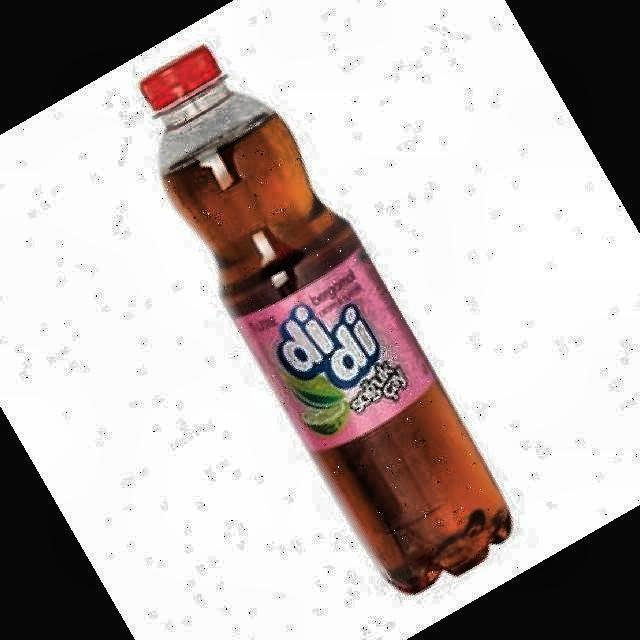plastic: (141, 46, 509, 592)
